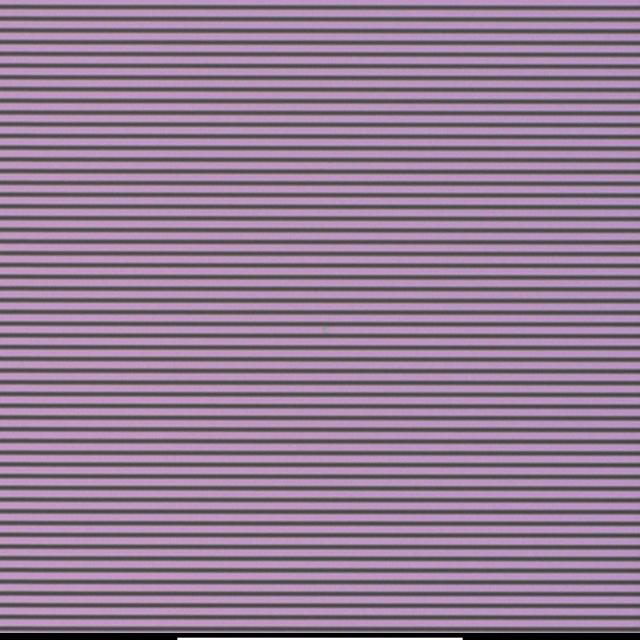nonvisual: (318, 321, 332, 336)
